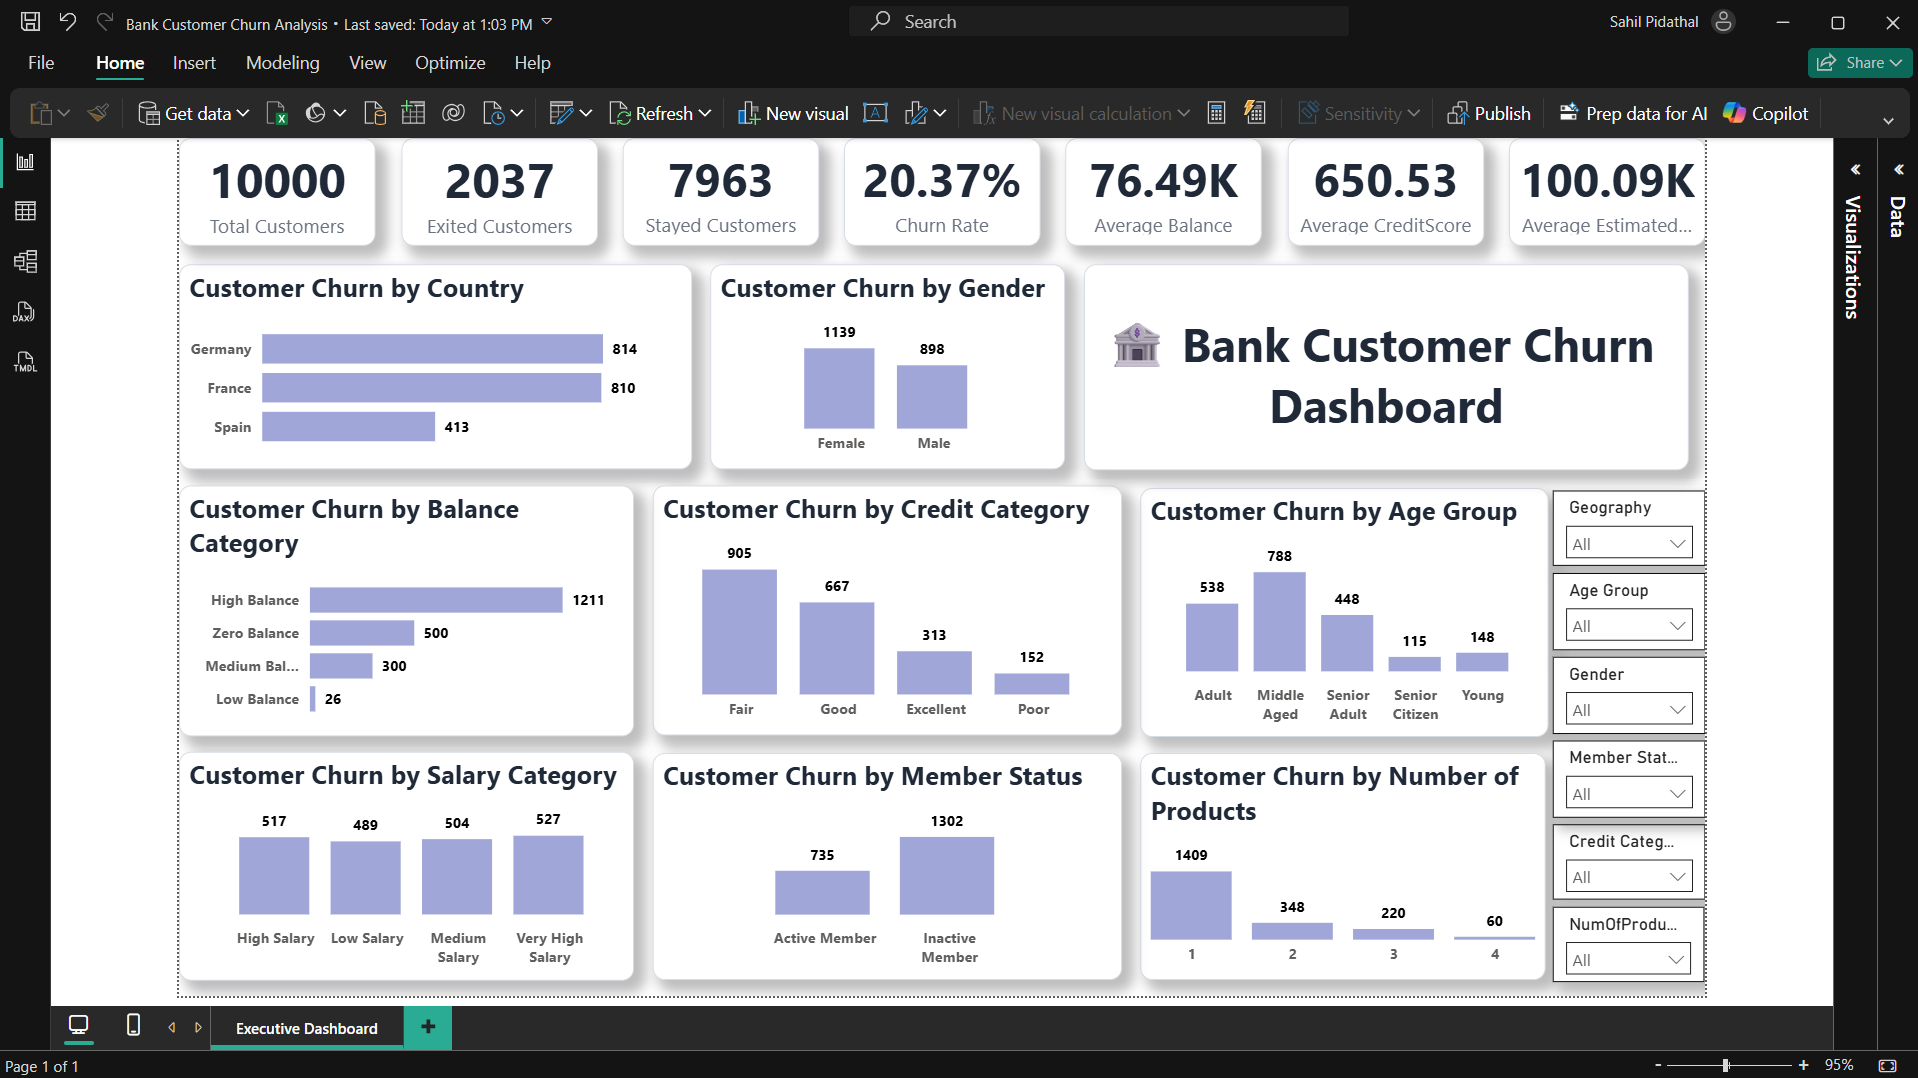

Layout of this report page (visuals, bound fields, positions):
{"tool":"powerbi","page":{"name":"Executive Dashboard","canvas":[1280,720],"ordinal":0},"visuals":[{"type":"card","fields":{"Values":["Bank Customers.Exited Customers"]},"box":[186.2,-0.4,165,90],"z":0},{"type":"card","fields":{"Values":["Bank Customers.Stayed Customers"]},"box":[372.1,-0.4,165,90],"z":1000},{"type":"card","fields":{"Values":["Bank Customers.Churn Rate"]},"box":[557.9,-0.4,165,90],"z":2000},{"type":"card","fields":{"Values":["Bank Customers.Average Balance"]},"box":[743.7,-0.4,165,90],"z":3000},{"type":"clusteredBarChart","title":"Customer Churn by Country","fields":{"Category":["Bank Customers.Geography"],"Y":["Bank Customers.Exited Customers"]},"box":[0,106,430.1,172.1],"z":4000},{"type":"clusteredColumnChart","title":"Customer Churn by Gender","fields":{"Category":["Bank Customers.Gender"],"Y":["Bank Customers.Exited Customers"]},"box":[445.5,106,298,172.1],"z":5000},{"type":"clusteredColumnChart","title":"Customer Churn by Age Group","fields":{"Category":["Bank Customers.Age Group"],"Y":["Bank Customers.Exited Customers"]},"box":[806.1,293.6,342.1,209],"z":6000},{"type":"clusteredColumnChart","title":"Customer Churn by Number of Products","fields":{"Category":["Bank Customers.NumOfProducts"],"Y":["Bank Customers.Exited Customers"]},"box":[806.6,516.2,340.4,190.8],"z":7000},{"type":"clusteredColumnChart","title":"Customer Churn by Credit Category","fields":{"Category":["Bank Customers.Credit Category"],"Y":["Bank Customers.Exited Customers"]},"box":[396.8,291.7,394,209.5],"z":8000},{"type":"clusteredBarChart","title":"Customer Churn by Balance Category","fields":{"Category":["Bank Customers.Balance Category"],"Y":["Bank Customers.Exited Customers"]},"box":[0,291,381.5,210.7],"z":9000},{"type":"clusteredColumnChart","title":"Customer Churn by Salary Category","fields":{"Category":["Bank Customers.Salary Category"],"Y":["Bank Customers.Exited Customers"]},"box":[0.4,514.6,381.7,191.7],"z":10000},{"type":"clusteredColumnChart","title":"Customer Churn by Member Status","fields":{"Category":["Bank Customers.Member Status"],"Y":["Bank Customers.Exited Customers"]},"box":[397.4,516.2,394,190.8],"z":11000},{"type":"slicer","fields":{"Values":["Bank Customers.Geography"]},"box":[1151.9,296.1,128.1,63.4],"z":12000},{"type":"card","fields":{"Values":["Bank Customers.Average EstimatedSalary"]},"box":[1115.4,-0.4,165,90],"z":13000},{"type":"card","fields":{"Values":["Bank Customers.Total Customer"]},"box":[0.4,-0.4,165,90],"z":14000},{"type":"card","fields":{"Values":["Bank Customers.Average CreditScore"]},"box":[929.6,-0.4,165,90],"z":15000},{"type":"slicer","fields":{"Values":["Bank Customers.Age Group"]},"box":[1151.9,365,128.1,64.7],"z":16000},{"type":"slicer","fields":{"Values":["Bank Customers.Credit Category"]},"box":[1151.9,575.5,128.1,63.4],"z":17000},{"type":"slicer","fields":{"Values":["Bank Customers.Gender"]},"box":[1151.9,435.1,128.1,64.7],"z":18000},{"type":"slicer","fields":{"Values":["Bank Customers.NumOfProducts"]},"box":[1151.9,644.4,126.9,63.4],"z":19000},{"type":"slicer","fields":{"Values":["Bank Customers.Member Status"]},"box":[1151.9,505.3,128.1,64.7],"z":20000},{"type":"card","fields":{"Values":["Bank Customers.Dashboard Title"]},"box":[758.8,105.7,507.5,172.9],"z":21000}]}

Visuals, with their boxes on the page's 1280x720 design canvas (x1, y1, x2, y2). These are canvas units, not pixel positions in the 1918x1078 screenshot, which may show the page scaled, cropped or inside an application window:
card - Bank Customers.Exited Customers: pyautogui.locateOnScreen(186, 0, 351, 90)
card - Bank Customers.Stayed Customers: pyautogui.locateOnScreen(372, 0, 537, 90)
card - Bank Customers.Churn Rate: pyautogui.locateOnScreen(558, 0, 723, 90)
card - Bank Customers.Average Balance: pyautogui.locateOnScreen(744, 0, 909, 90)
"Customer Churn by Country" clusteredBarChart: pyautogui.locateOnScreen(0, 106, 430, 278)
"Customer Churn by Gender" clusteredColumnChart: pyautogui.locateOnScreen(446, 106, 744, 278)
"Customer Churn by Age Group" clusteredColumnChart: pyautogui.locateOnScreen(806, 294, 1148, 503)
"Customer Churn by Number of Products" clusteredColumnChart: pyautogui.locateOnScreen(807, 516, 1147, 707)
"Customer Churn by Credit Category" clusteredColumnChart: pyautogui.locateOnScreen(397, 292, 791, 501)
"Customer Churn by Balance Category" clusteredBarChart: pyautogui.locateOnScreen(0, 291, 382, 502)
"Customer Churn by Salary Category" clusteredColumnChart: pyautogui.locateOnScreen(0, 515, 382, 706)
"Customer Churn by Member Status" clusteredColumnChart: pyautogui.locateOnScreen(397, 516, 791, 707)
slicer - Bank Customers.Geography: pyautogui.locateOnScreen(1152, 296, 1280, 360)
card - Bank Customers.Average EstimatedSalary: pyautogui.locateOnScreen(1115, 0, 1280, 90)
card - Bank Customers.Total Customer: pyautogui.locateOnScreen(0, 0, 165, 90)
card - Bank Customers.Average CreditScore: pyautogui.locateOnScreen(930, 0, 1095, 90)
slicer - Bank Customers.Age Group: pyautogui.locateOnScreen(1152, 365, 1280, 430)
slicer - Bank Customers.Credit Category: pyautogui.locateOnScreen(1152, 576, 1280, 639)
slicer - Bank Customers.Gender: pyautogui.locateOnScreen(1152, 435, 1280, 500)
slicer - Bank Customers.NumOfProducts: pyautogui.locateOnScreen(1152, 644, 1279, 708)
slicer - Bank Customers.Member Status: pyautogui.locateOnScreen(1152, 505, 1280, 570)
card - Bank Customers.Dashboard Title: pyautogui.locateOnScreen(759, 106, 1266, 279)
